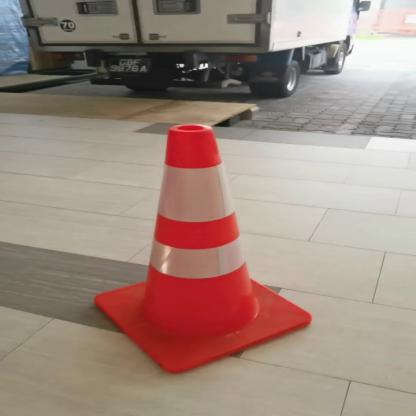cone: (86, 121, 328, 376)
